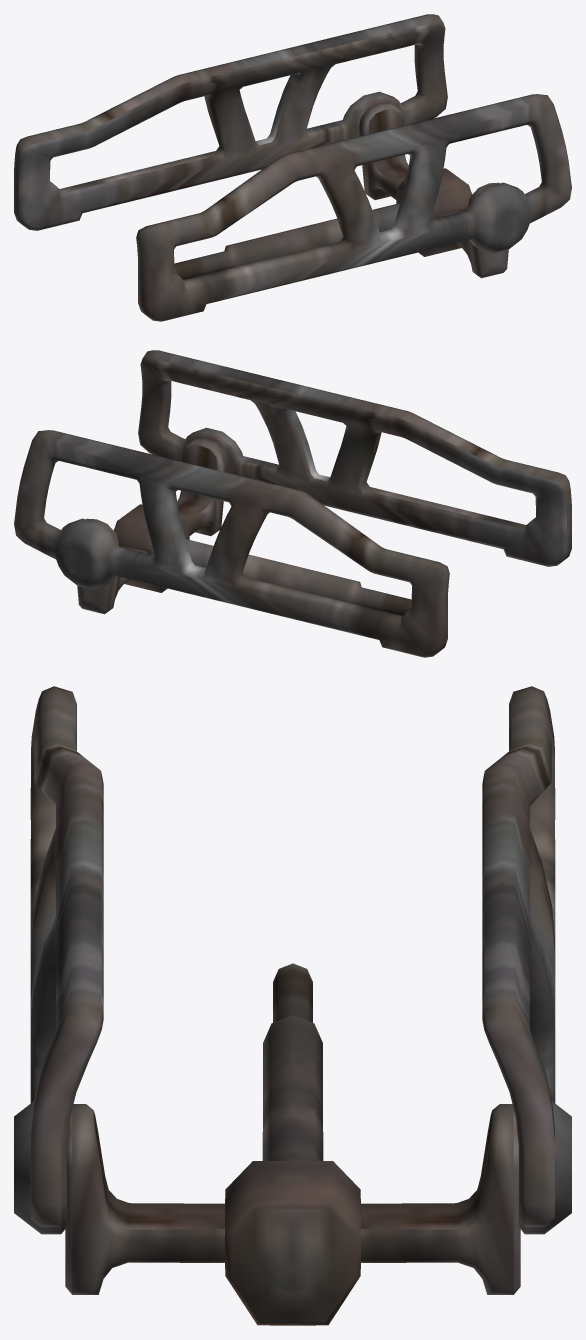
The model's file is HeavyWeapons_Vladof_Barrel_Gruppa_Acc_2.obj.
3 renders of one model, top to bottom at view 1: azimuth 30°, elevation 25°; view 2: azimuth 150°, elevation 25°; view 3: azimuth 270°, elevation 25°, orthographic. The views are drawn at different scales.
Visible parts, largest first — view 1: SK_HW_VLA.146, SK_HW_VLA.145, SK_HW_VLA.144; view 2: SK_HW_VLA.145, SK_HW_VLA.146, SK_HW_VLA.144; view 3: SK_HW_VLA.144, SK_HW_VLA.145, SK_HW_VLA.146.
Part boxes in pixels (x1,y1,x2,y2): SK_HW_VLA.146: (136,94,571,321); SK_HW_VLA.145: (14,14,447,230); SK_HW_VLA.144: (174,102,508,279); SK_HW_VLA.145: (14,430,449,657); SK_HW_VLA.146: (138,350,571,566); SK_HW_VLA.144: (77,438,411,615); SK_HW_VLA.144: (65,963,520,1325); SK_HW_VLA.145: (482,686,571,1234); SK_HW_VLA.146: (14,686,103,1234).
Bounding box in the file's own units: 35.19 × 14.05 × 20.37.
